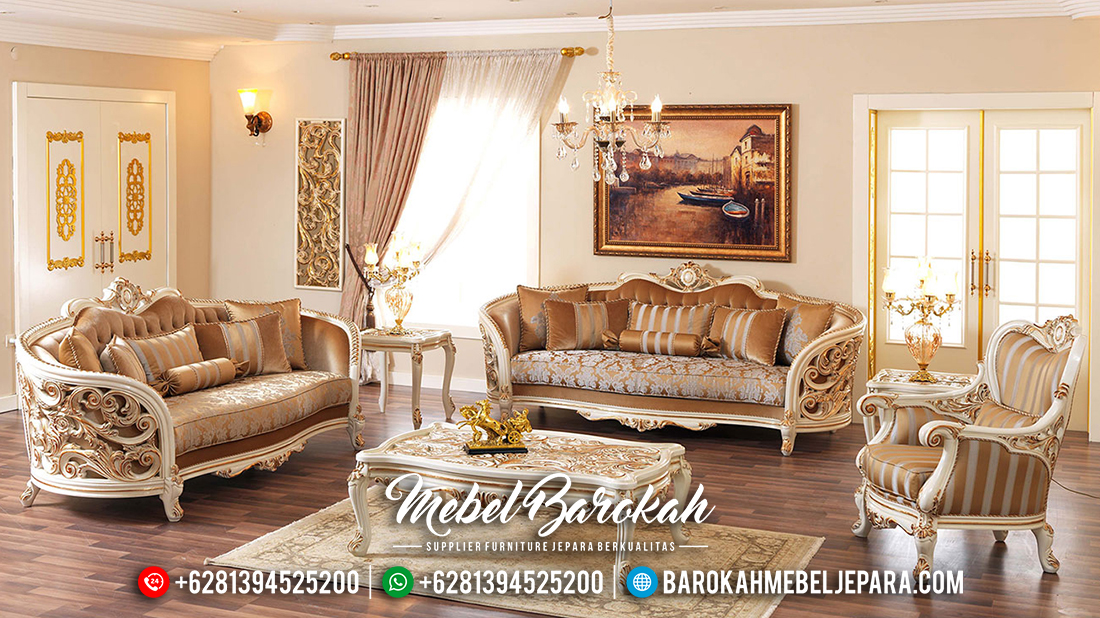Carving Chair: (30, 279, 362, 527), (481, 256, 853, 454), (863, 324, 1070, 568)
Carving Table: (349, 416, 705, 580)
